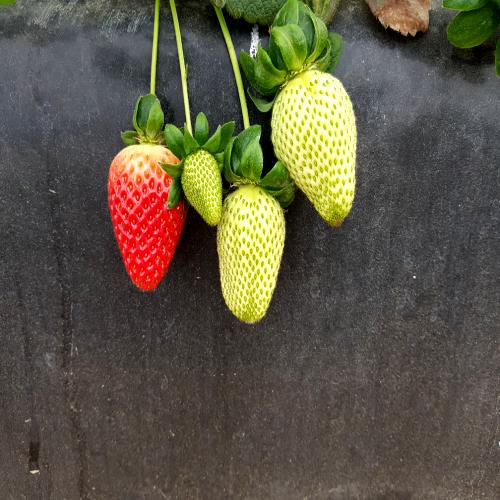ripe: (108, 135, 193, 294)
unripe: (270, 72, 364, 215), (224, 161, 287, 314), (178, 143, 229, 238)
